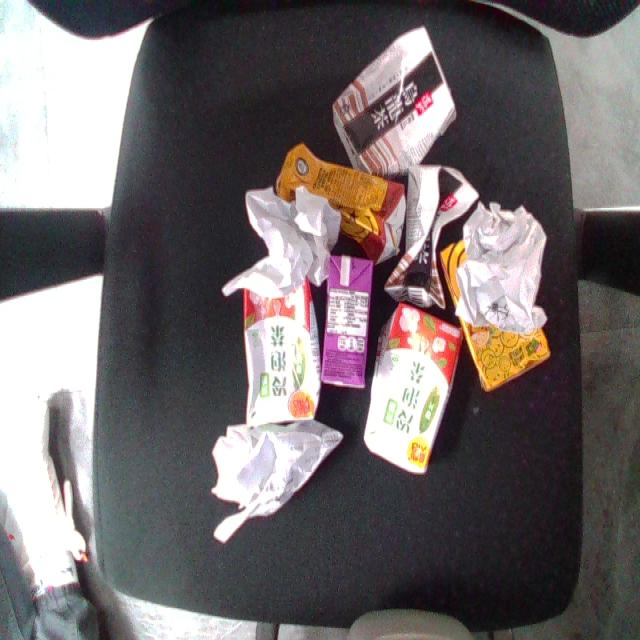juicebox: (309, 15, 476, 176), (344, 301, 468, 478), (269, 135, 420, 249), (387, 150, 489, 309), (239, 278, 316, 424), (321, 257, 374, 390)
paper: (211, 171, 357, 331), (206, 422, 348, 550), (453, 197, 564, 344)
